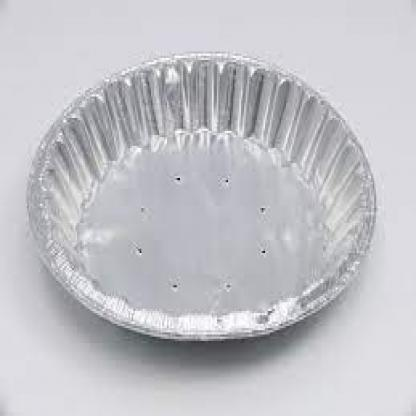METAL: (24, 52, 373, 336)
